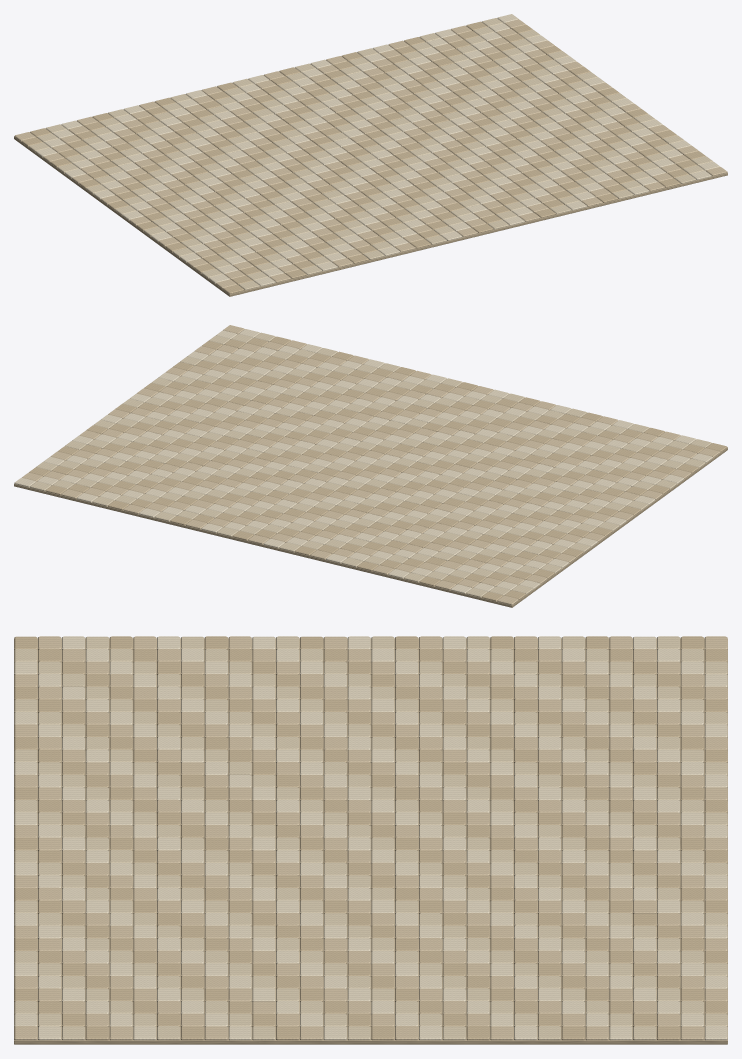
File: garden-floor.glb
The picture shows the model from 3 angles, top to bottom: view 1: azimuth 30°, elevation 25°; view 2: azimuth 150°, elevation 25°; view 3: azimuth 270°, elevation 25°; orthographic projection. The views are drawn at different scales.
Visible parts, largest first — view 1: garden_floor; view 2: garden_floor; view 3: garden_floor.
Part boxes in pixels (x1,y1,x2,y2): garden_floor: (14, 14, 727, 296); garden_floor: (14, 325, 727, 607); garden_floor: (14, 636, 727, 1044).
Size of the model in its own units: 16 by 0.124 by 12.
Materials: 4 (4 with a texture image).
